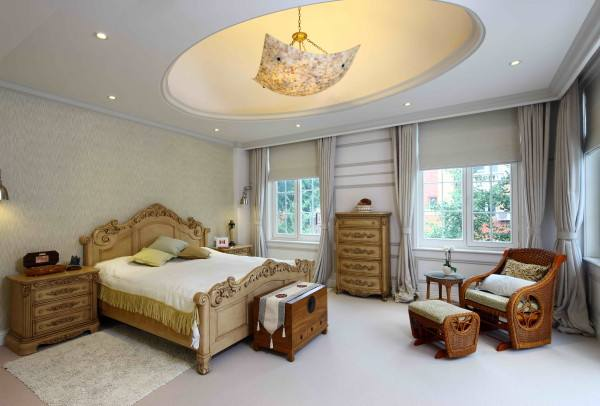床: (96, 246, 318, 357)
枕头: (127, 237, 197, 269)
灯: (250, 11, 351, 103), (90, 31, 107, 43), (101, 94, 116, 105), (208, 127, 222, 138), (505, 59, 520, 69), (399, 101, 411, 111), (290, 123, 301, 132)
